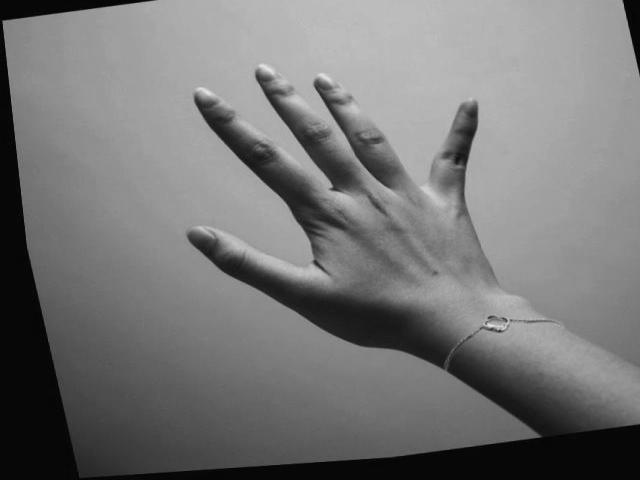not-gloved: (185, 63, 490, 362)
